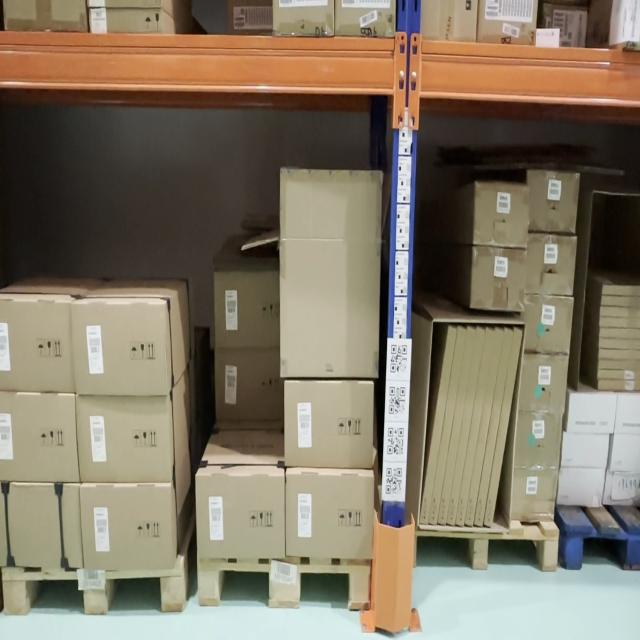box: (281, 239, 378, 375), (484, 327, 523, 529), (474, 327, 513, 528), (77, 303, 165, 392), (77, 397, 170, 479), (438, 327, 476, 526), (428, 328, 466, 525), (286, 471, 373, 557), (447, 327, 484, 527), (286, 381, 373, 466), (457, 329, 494, 527), (419, 326, 456, 523), (198, 476, 284, 560), (466, 328, 502, 525), (85, 486, 171, 566), (0, 485, 79, 564), (0, 395, 74, 479), (0, 304, 71, 388), (215, 351, 280, 422), (216, 272, 279, 345), (471, 251, 525, 308), (478, 185, 527, 245), (528, 172, 576, 230), (527, 238, 574, 292), (522, 356, 568, 409), (518, 413, 559, 468), (526, 299, 570, 350), (511, 471, 554, 519), (558, 470, 602, 506), (570, 396, 612, 431), (564, 434, 606, 467), (606, 472, 640, 504), (611, 434, 640, 471), (617, 396, 640, 431), (601, 295, 640, 306), (598, 380, 640, 390), (599, 337, 640, 347), (600, 317, 640, 327), (598, 358, 640, 367), (599, 306, 640, 315), (599, 327, 640, 336), (599, 349, 640, 358), (603, 285, 640, 294), (597, 370, 640, 377)
